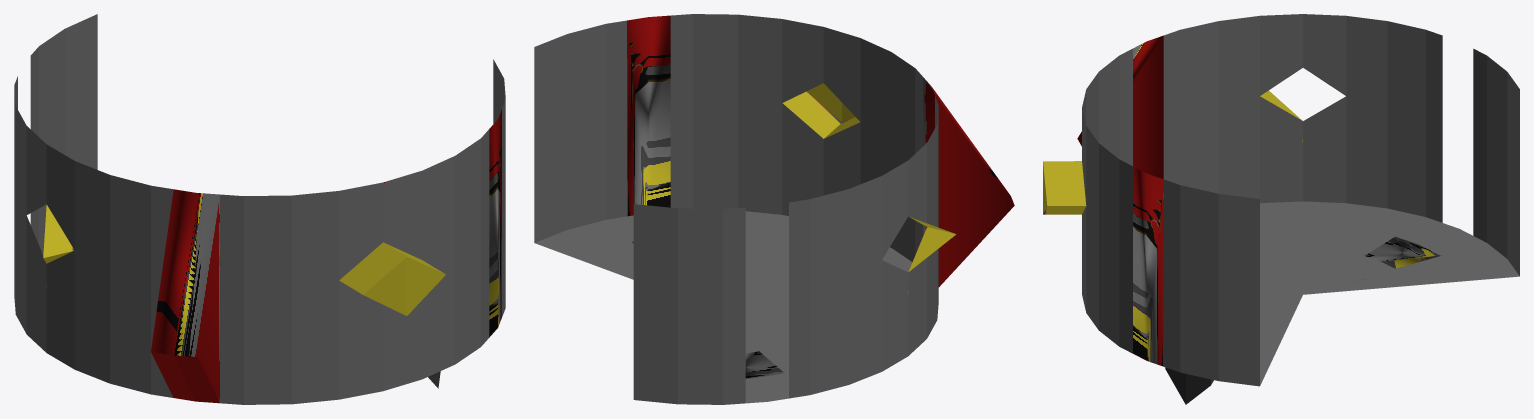
Rendered from enemyMiniRobotBreak02.obj.
The picture shows the model from 3 angles, left to right: view 1: azimuth 30°, elevation 25°; view 2: azimuth 150°, elevation 25°; view 3: azimuth 270°, elevation 25°; orthographic projection. The views are drawn at different scales.
Visible parts, largest first — view 1: 球; view 2: 球; view 3: 球.
Part boxes in pixels (<box>): 球: <box>14,14,505,404</box>; 球: <box>534,14,1014,404</box>; 球: <box>1043,14,1519,404</box>.
Bounding box in the file's own units: 2.08 × 1.22 × 2.13.
Materials: 1 (1 with a texture image).
